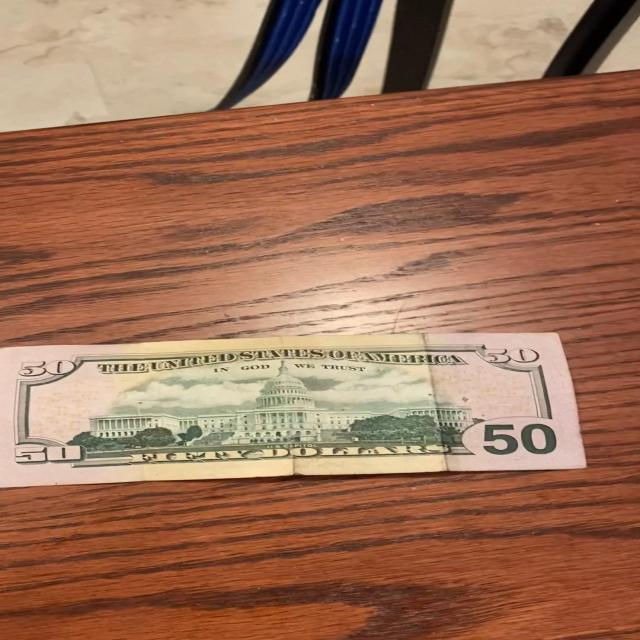50-Back: (1, 331, 593, 499)
